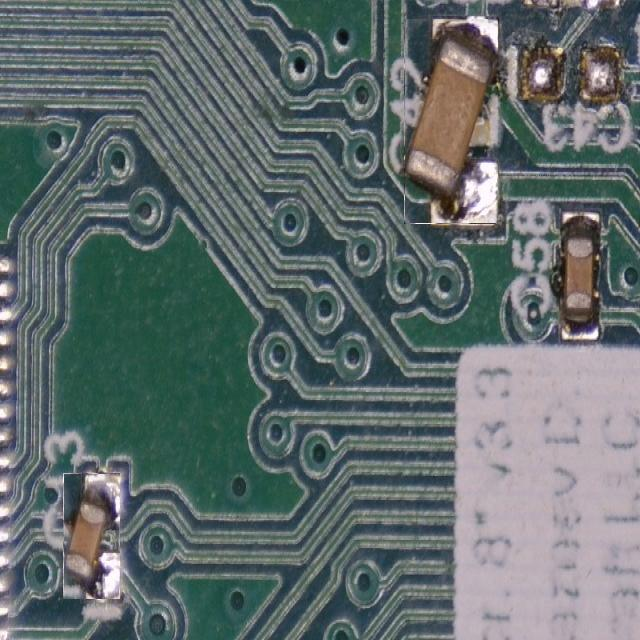Incorrect_installation: (404, 20, 498, 222), (63, 473, 120, 599)
